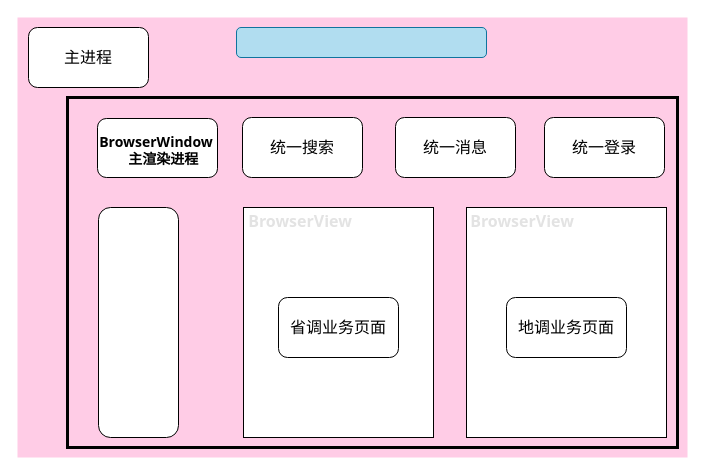
Image size: 704x474. Some labels were removed from this diagram. The centre of each missing label's shape, as x and y in pixels:
"Electron框架" goes at [361,42].
"统 一 菜 单" goes at [138,322].
